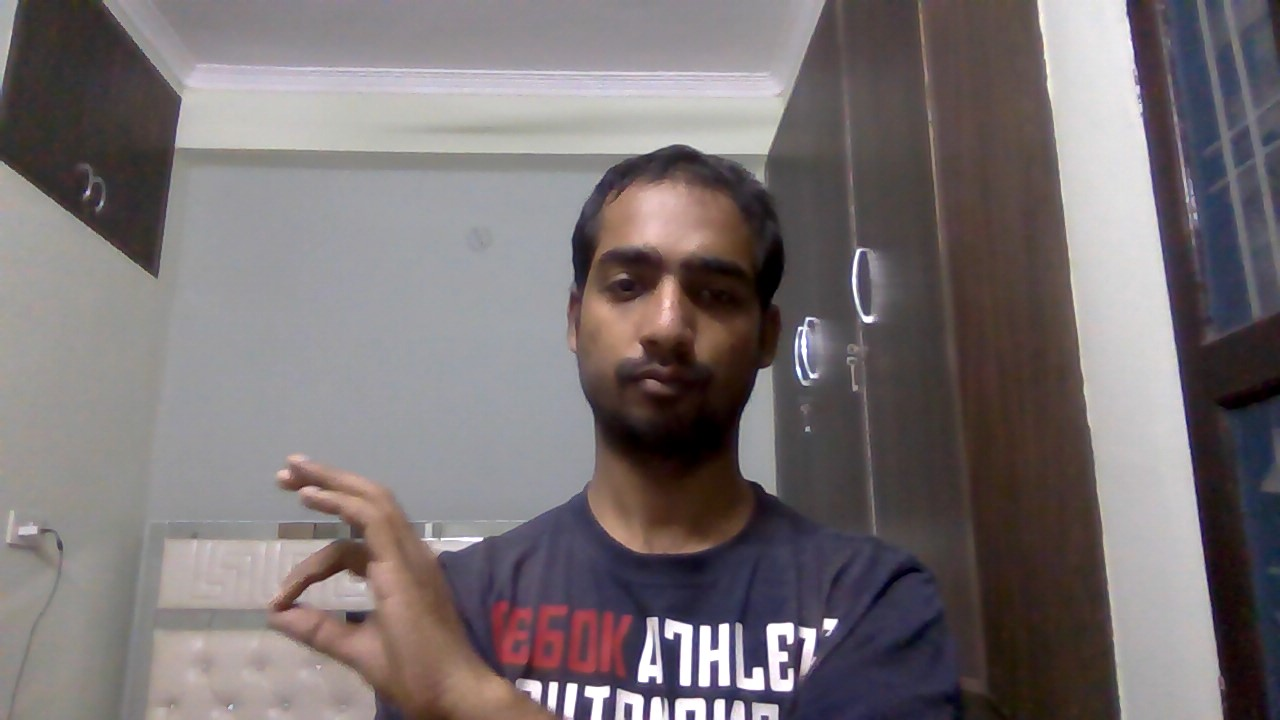Copy: (243, 445, 506, 712)
